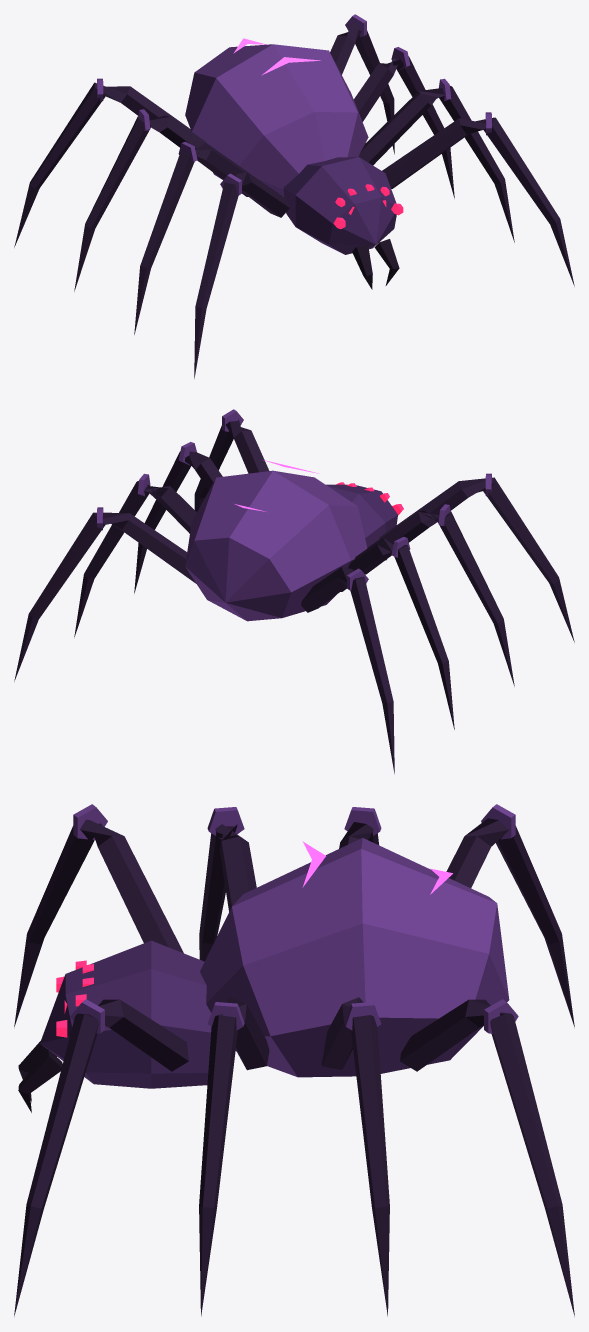
The model's file is spider.glb.
The picture shows the model from 3 angles, top to bottom: view 1: azimuth 30°, elevation 25°; view 2: azimuth 150°, elevation 25°; view 3: azimuth 270°, elevation 25°; orthographic projection. The views are drawn at different scales.
Parts seen in each view (by area): view 1: body_mesh, leg_4_mesh, leg_5_mesh, leg_0_mesh, leg_3_mesh, leg_1_mesh, leg_2_mesh, leg_6_mesh, leg_7_mesh; view 2: body_mesh, leg_7_mesh, leg_3_mesh, leg_0_mesh, leg_2_mesh, leg_1_mesh, leg_6_mesh, leg_4_mesh, leg_5_mesh; view 3: body_mesh, leg_4_mesh, leg_7_mesh, leg_0_mesh, leg_5_mesh, leg_6_mesh, leg_3_mesh, leg_1_mesh, leg_2_mesh.
Part boxes in pixels (left/top/right/bottom): body_mesh: left=185, top=38, right=403, bottom=289; leg_4_mesh: left=382, top=112, right=574, bottom=286; leg_5_mesh: left=358, top=78, right=514, bottom=242; leg_0_mesh: left=194, top=172, right=289, bottom=378; leg_3_mesh: left=14, top=78, right=191, bottom=247; leg_1_mesh: left=134, top=141, right=248, bottom=334; leg_2_mesh: left=74, top=109, right=222, bottom=291; leg_6_mesh: left=353, top=47, right=454, bottom=198; leg_7_mesh: left=330, top=14, right=394, bottom=154; body_mesh: left=185, top=460, right=403, bottom=621; leg_7_mesh: left=14, top=507, right=196, bottom=681; leg_3_mesh: left=301, top=567, right=394, bottom=773; leg_0_mesh: left=379, top=473, right=574, bottom=642; leg_2_mesh: left=340, top=536, right=454, bottom=729; leg_1_mesh: left=366, top=504, right=514, bottom=686; leg_6_mesh: left=74, top=473, right=196, bottom=637; leg_4_mesh: left=194, top=409, right=269, bottom=511; leg_5_mesh: left=134, top=442, right=222, bottom=593; body_mesh: left=18, top=838, right=509, bottom=1112; leg_4_mesh: left=14, top=999, right=188, bottom=1316; leg_7_mesh: left=400, top=999, right=574, bottom=1316; leg_0_mesh: left=14, top=804, right=183, bottom=1027; leg_5_mesh: left=199, top=997, right=269, bottom=1316; leg_6_mesh: left=321, top=997, right=389, bottom=1316; leg_3_mesh: left=446, top=804, right=574, bottom=1027; leg_1_mesh: left=199, top=807, right=256, bottom=961; leg_2_mesh: left=339, top=807, right=381, bottom=848.
Size of the model in its own units: 0.86 by 0.4499 by 0.705.
